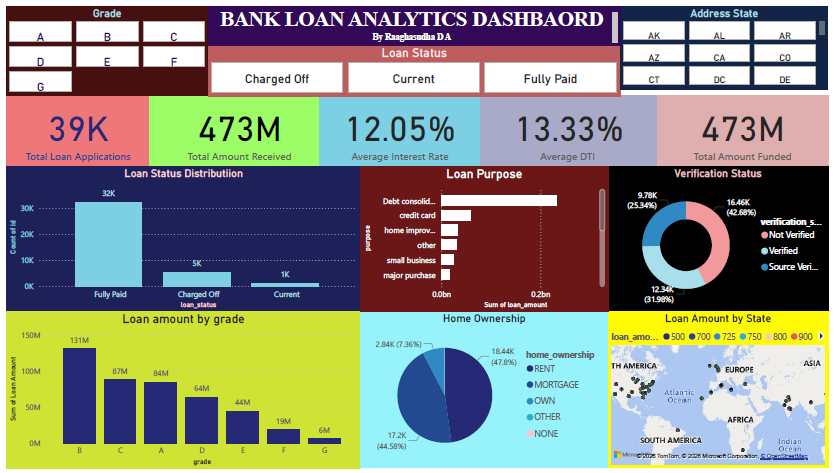

The page's visual inventory and layout, read from the dashboard file:
{"tool":"powerbi","page":{"name":"Page 1","canvas":[1280,720],"ordinal":0},"visuals":[{"type":"card","fields":{"Values":["Cleaned_Loan_Data.Total Loan Applications"]},"box":[0,139.3,223.2,110.7],"z":0},{"type":"card","fields":{"Values":["Cleaned_Loan_Data.Total Amount Received"]},"box":[223.2,139.3,280.4,110.7],"z":1000},{"type":"card","fields":{"Values":["Cleaned_Loan_Data.Average Interest Rate"]},"box":[487.5,139.3,251.8,110.7],"z":2000},{"type":"card","fields":{"Values":["Cleaned_Loan_Data.Average DTI "]},"box":[739.3,139.3,275,110.7],"z":3000},{"type":"card","fields":{"Values":["Cleaned_Loan_Data.Total Amount Funded"]},"box":[1014.3,139.3,266.1,110.7],"z":4000},{"type":"columnChart","title":"Loan Status Distributiion","fields":{"Category":["Cleaned_Loan_Data.loan_status"],"Y":["CountNonNull(Cleaned_Loan_Data.id)"]},"box":[0,250,551.8,225],"z":5000},{"type":"clusteredColumnChart","title":"Loan amount by grade","fields":{"Y":["Sum(Cleaned_Loan_Data.loan_amount)"],"Category":["Cleaned_Loan_Data.grade"]},"box":[0,475,551.8,244.6],"z":6000},{"type":"pieChart","title":"Home Ownership","fields":{"Category":["Cleaned_Loan_Data.home_ownership"],"Y":["CountNonNull(Cleaned_Loan_Data.id)"]},"box":[551.8,475,385.7,242.9],"z":7000},{"type":"donutChart","title":"Verification Status","fields":{"Category":["Cleaned_Loan_Data.verification_status"],"Y":["CountNonNull(Cleaned_Loan_Data.id)"]},"box":[937.5,250,342.9,225],"z":8000},{"type":"map","title":"Loan Amount by State","fields":{"Category":["Cleaned_Loan_Data.address_state"],"Series":["Cleaned_Loan_Data.loan_amount"]},"box":[937.5,475,342.9,242.9],"z":9000},{"type":"clusteredBarChart","title":"Loan Purpose","fields":{"Category":["Cleaned_Loan_Data.purpose"],"Y":["Sum(Cleaned_Loan_Data.loan_amount)"]},"box":[551.8,250,385.7,225],"z":10000},{"type":"advancedSlicerVisual","title":"Grade","fields":{"Values":["Cleaned_Loan_Data.grade"]},"box":[0,0,314.3,139.3],"z":10001},{"type":"advancedSlicerVisual","title":"Loan Status","fields":{"Values":["Cleaned_Loan_Data.loan_status"]},"box":[314.3,60.7,642.9,78.6],"z":10002},{"type":"advancedSlicerVisual","title":"Address State","fields":{"Values":["Cleaned_Loan_Data.address_state"]},"box":[957.1,0,323.2,128.6],"z":10003},{"type":"textbox","box":[314.3,0,642.9,60.7],"z":10004}]}

Visuals, with their boxes in screenshot pixels (x1, y1, x2, y2), scaled from the page's 1280x720 canvas onto the 834x473 screenshot:
card - Cleaned_Loan_Data.Total Loan Applications: (x1=0, y1=92, x2=145, y2=164)
card - Cleaned_Loan_Data.Total Amount Received: (x1=145, y1=92, x2=328, y2=164)
card - Cleaned_Loan_Data.Average Interest Rate: (x1=318, y1=92, x2=482, y2=164)
card - Cleaned_Loan_Data.Average DTI : (x1=482, y1=92, x2=661, y2=164)
card - Cleaned_Loan_Data.Total Amount Funded: (x1=661, y1=92, x2=833, y2=164)
"Loan Status Distributiion" columnChart: (x1=0, y1=164, x2=360, y2=312)
"Loan amount by grade" clusteredColumnChart: (x1=0, y1=312, x2=360, y2=472)
"Home Ownership" pieChart: (x1=360, y1=312, x2=611, y2=472)
"Verification Status" donutChart: (x1=611, y1=164, x2=833, y2=312)
"Loan Amount by State" map: (x1=611, y1=312, x2=833, y2=472)
"Loan Purpose" clusteredBarChart: (x1=360, y1=164, x2=611, y2=312)
"Grade" advancedSlicerVisual: (x1=0, y1=0, x2=205, y2=92)
"Loan Status" advancedSlicerVisual: (x1=205, y1=40, x2=624, y2=92)
"Address State" advancedSlicerVisual: (x1=624, y1=0, x2=833, y2=84)
textbox: (x1=205, y1=0, x2=624, y2=40)
